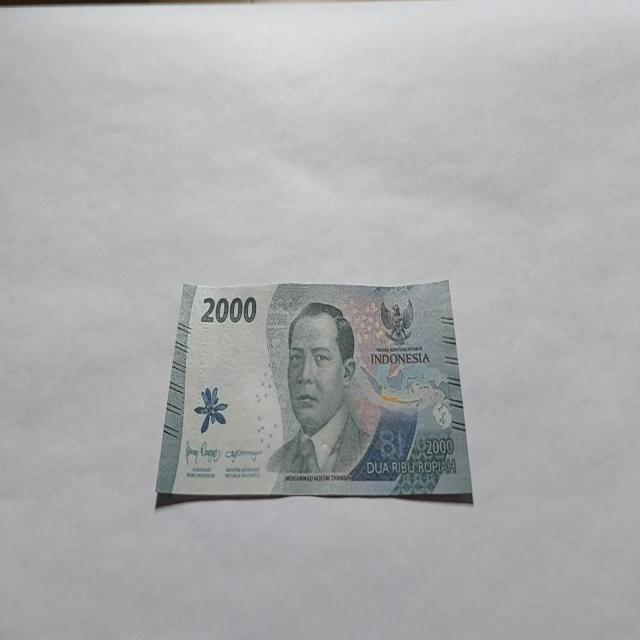dua ribu rupiah: (154, 277, 473, 505), (265, 300, 371, 480)
